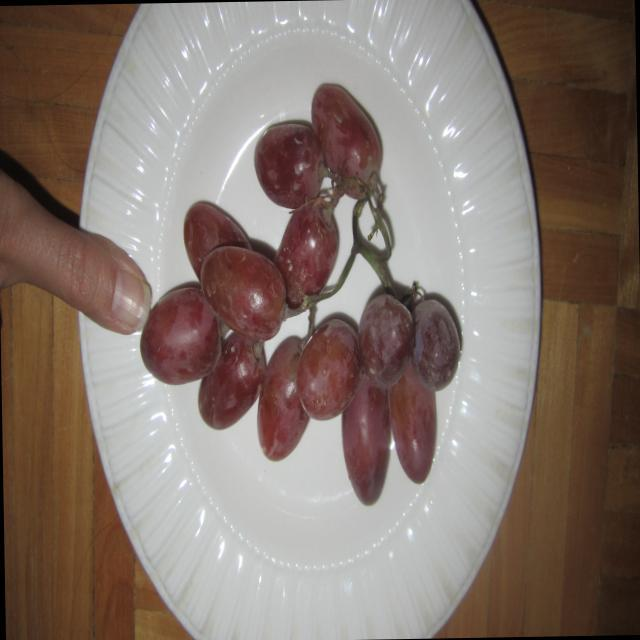Finger: (39, 211, 156, 339)
Grapes: (148, 66, 476, 518)
